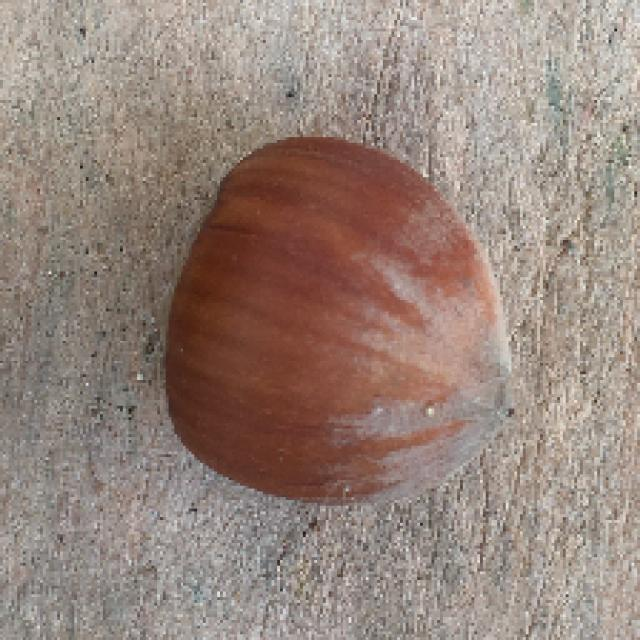qualityHazelnut: (160, 124, 523, 512)
